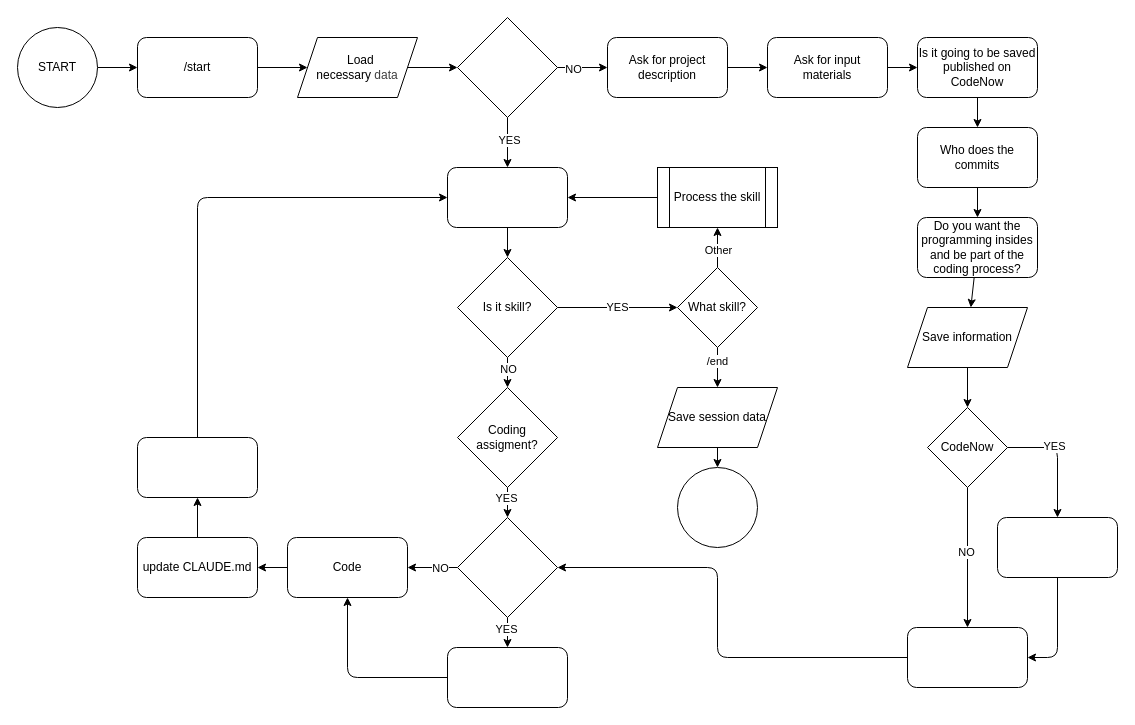
The diagram is 1135 pixels wide and 725 high, and some of its shapes have lost their labels. The centre of each missing label's shape, as x and y in pixels:
Ask questions: (x=507, y=677)
Choose scaffolding: (x=1057, y=547)
END: (x=717, y=507)
Is the project iniciated?: (x=507, y=67)
Need additional context?: (x=507, y=567)
Tell the user what you did: (x=197, y=467)
Wait for repository link: (x=967, y=657)
Wait for user input: (x=507, y=197)
